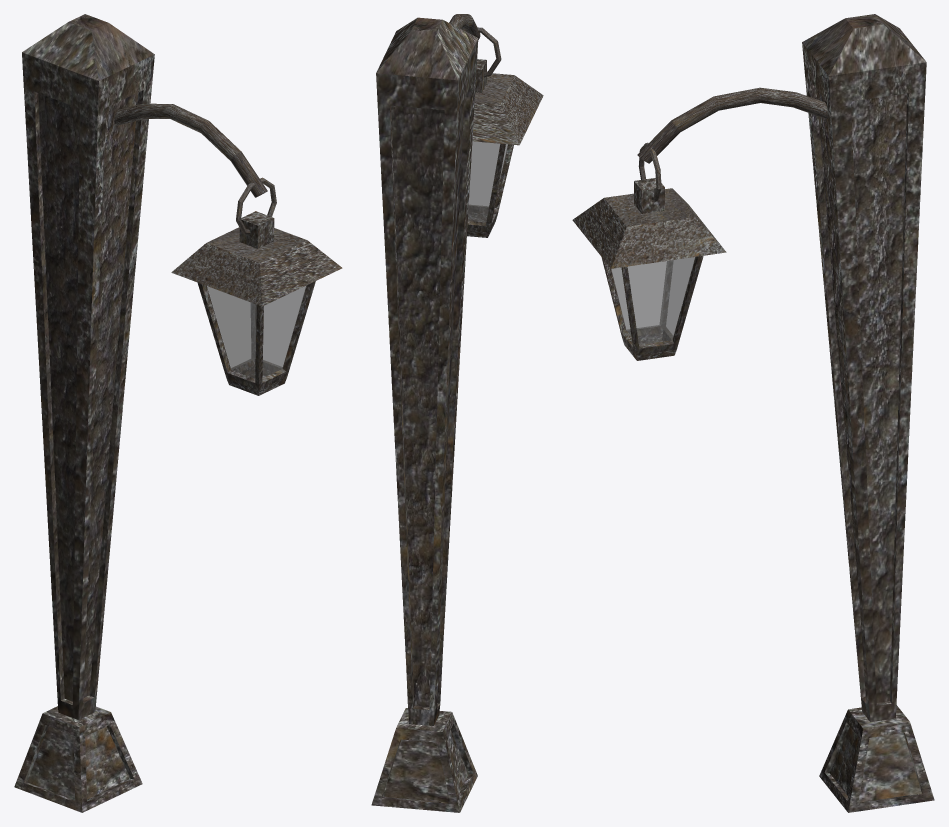
Rendered from lamba_vol2.fbx.
3 renders of one model, left to right at view 1: azimuth 30°, elevation 25°; view 2: azimuth 150°, elevation 25°; view 3: azimuth 270°, elevation 25°, orthographic.
Parts seen in each view (by area): view 1: polySurface164, polySurface170, polySurface168, polySurface169; view 2: polySurface164, polySurface170, polySurface168, polySurface169; view 3: polySurface164, polySurface170, polySurface168.
Part boxes in pixels (bbox=[...]): polySurface164: bbox=[14, 14, 154, 812]; polySurface170: bbox=[171, 211, 342, 395]; polySurface168: bbox=[114, 103, 267, 197]; polySurface169: bbox=[236, 177, 276, 234]; polySurface164: bbox=[371, 17, 478, 812]; polySurface170: bbox=[467, 59, 543, 237]; polySurface168: bbox=[449, 14, 480, 39]; polySurface169: bbox=[462, 27, 501, 77]; polySurface164: bbox=[802, 14, 934, 812]; polySurface170: bbox=[572, 178, 726, 360]; polySurface168: bbox=[637, 87, 827, 163].
Bounding box in the file's own units: 0.8557 × 3.45 × 1.47.
